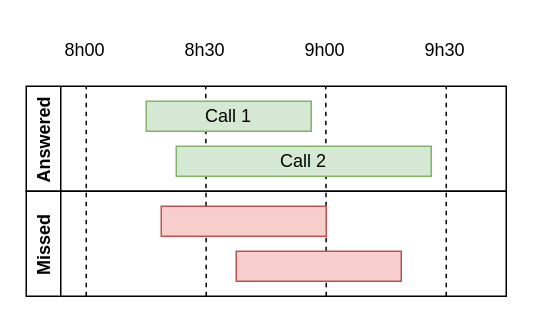
The diagram is 533 pixels wide and 324 high, and some of its shapes have lost their labels. The shapes that lost their labels are listed below. From the top down, each one's centre as x and y in pixels, then its label:
At [243,220]: "Call 3".
At [318,265]: "Call 4".
